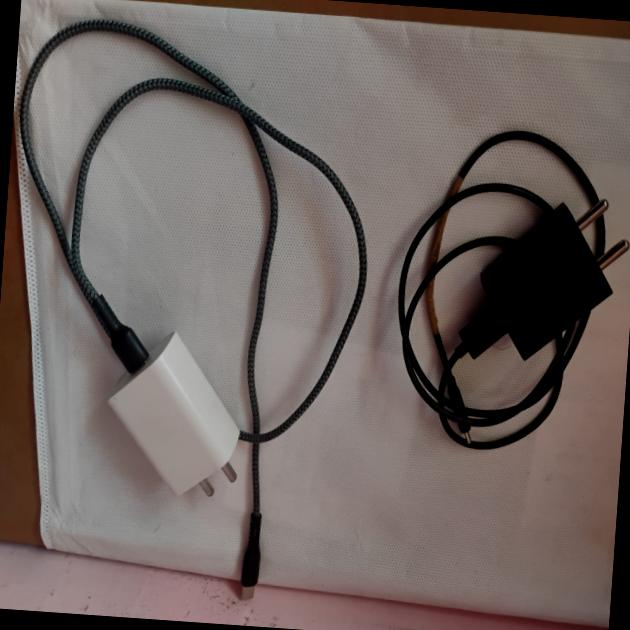mobilecharger: (0, 23, 364, 549), (372, 100, 623, 474)
